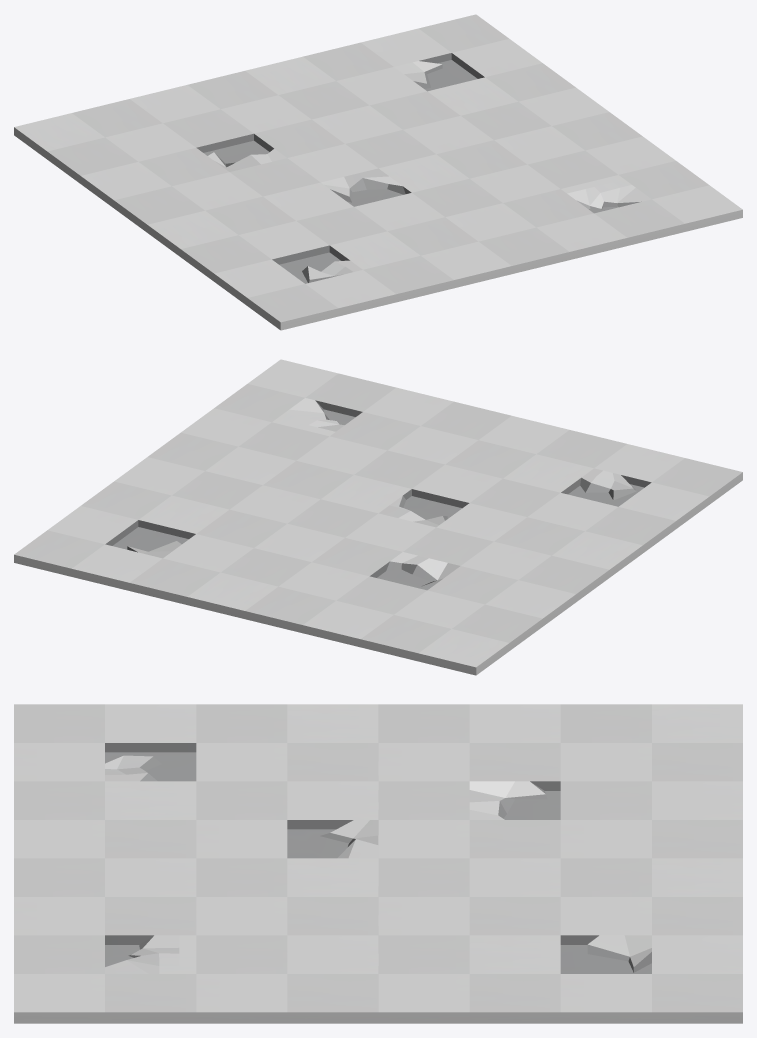
File: floor_tile_2.glb
3 views of the same model, one above another, from view 1: azimuth 30°, elevation 25°; view 2: azimuth 150°, elevation 25°; view 3: azimuth 270°, elevation 25° (orthographic). The views are drawn at different scales.
Parts seen in each view (by area): view 1: floor_tile_2; view 2: floor_tile_2; view 3: floor_tile_2.
Boxes of the visible parts, x1=… form: floor_tile_2: x1=14, y1=14, x2=742, y2=330; floor_tile_2: x1=14, y1=359, x2=742, y2=675; floor_tile_2: x1=14, y1=704, x2=742, y2=1023.
Bounding box in the file's own units: 3.51 × 0.0769 × 3.51.
Materials: 1 (1 with a texture image).
